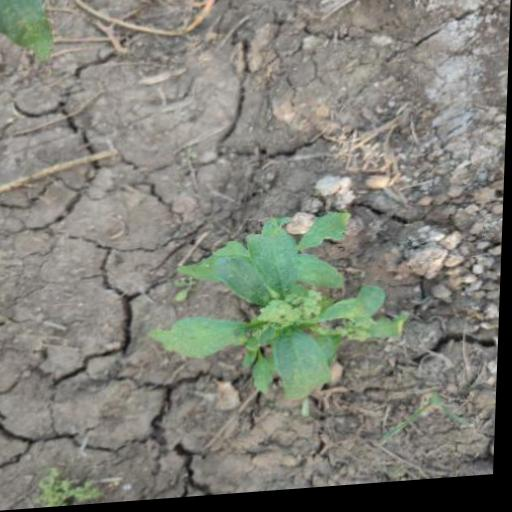weed: (161, 216, 412, 434)
